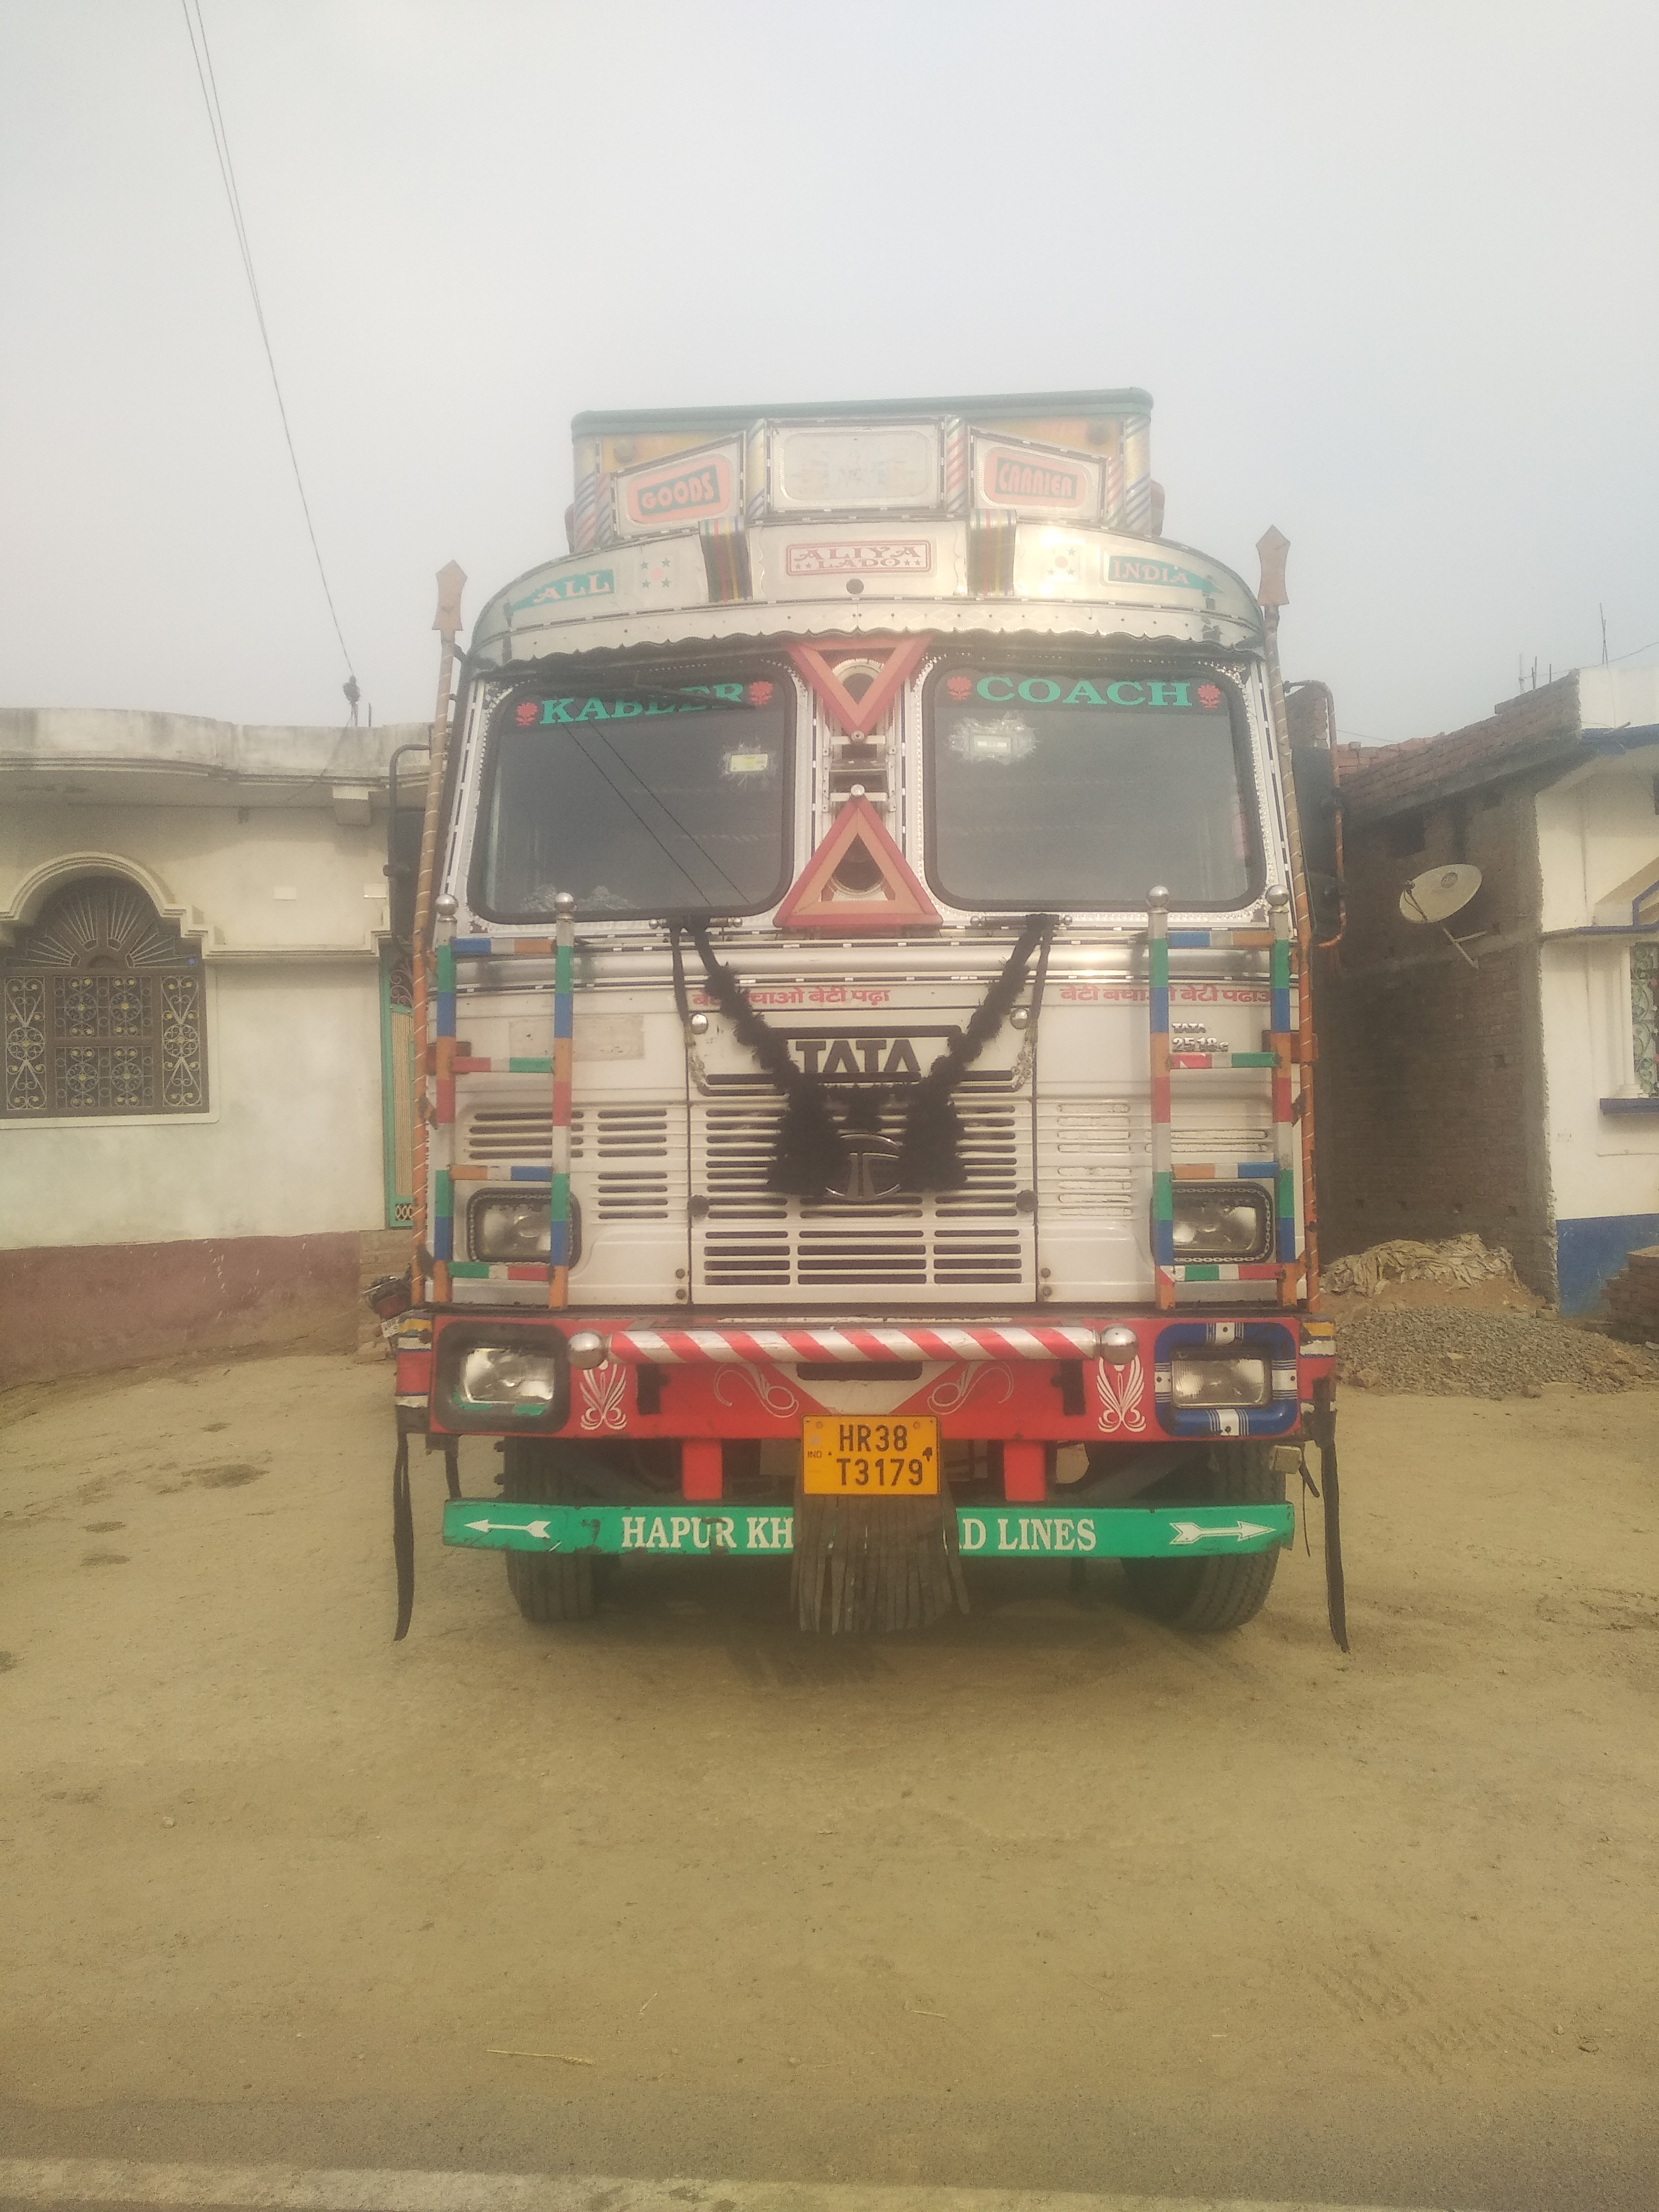truck: (378, 383, 1356, 1642)
